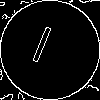I: (25, 25, 55, 73)
